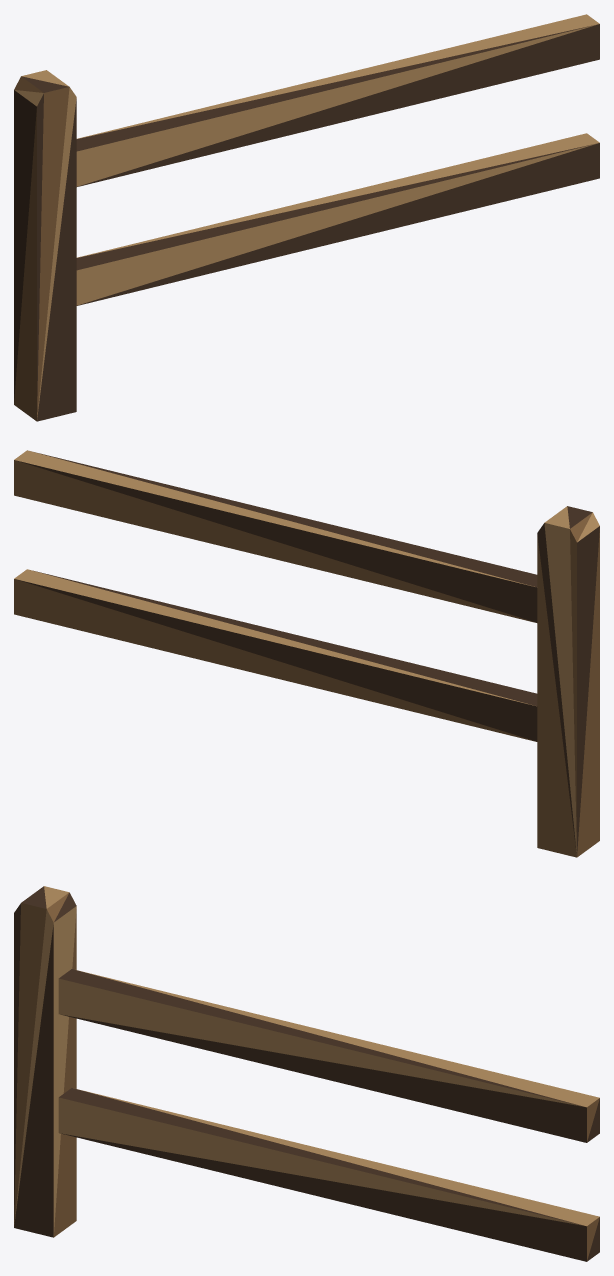
Rendered from TW_WOOD_RAIL_2M_A_LOD0.glb.
3 views of the same model, one above another, from view 1: azimuth 30°, elevation 25°; view 2: azimuth 150°, elevation 25°; view 3: azimuth 330°, elevation 25° (orthographic).
Parts seen in each view (by area): view 1: TW_WOOD_RAIL_2M_A_LOD0; view 2: TW_WOOD_RAIL_2M_A_LOD0; view 3: TW_WOOD_RAIL_2M_A_LOD0.
Part boxes in pixels (x1,y1,x2,y2): TW_WOOD_RAIL_2M_A_LOD0: (14, 14, 599, 421); TW_WOOD_RAIL_2M_A_LOD0: (14, 450, 599, 857); TW_WOOD_RAIL_2M_A_LOD0: (14, 886, 599, 1261).
Size of the model in its own units: 2 by 1.1 by 0.14.
1 material, 1 textured.
